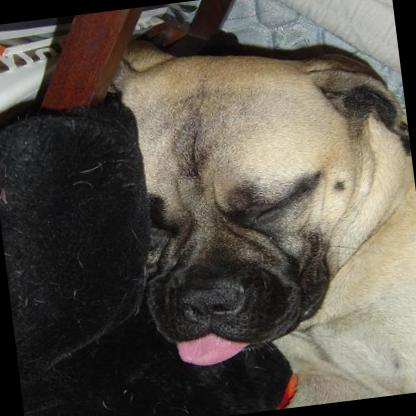bull_mastiff: (100, 2, 416, 416)
